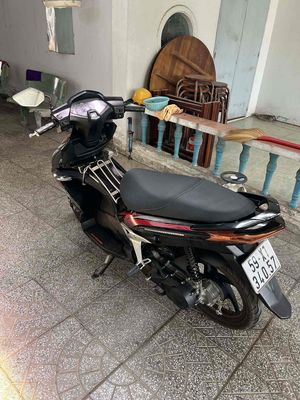Bien-so: (242, 238, 283, 295)
